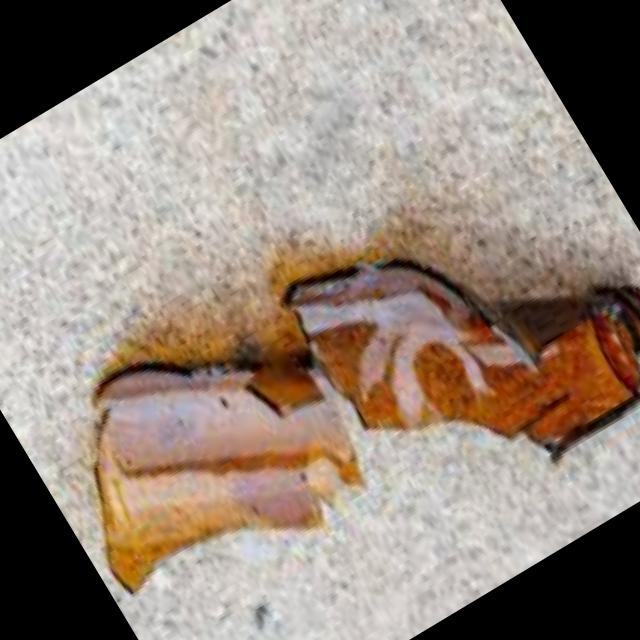PecahanKaca: (274, 125, 640, 551), (22, 282, 390, 638)
